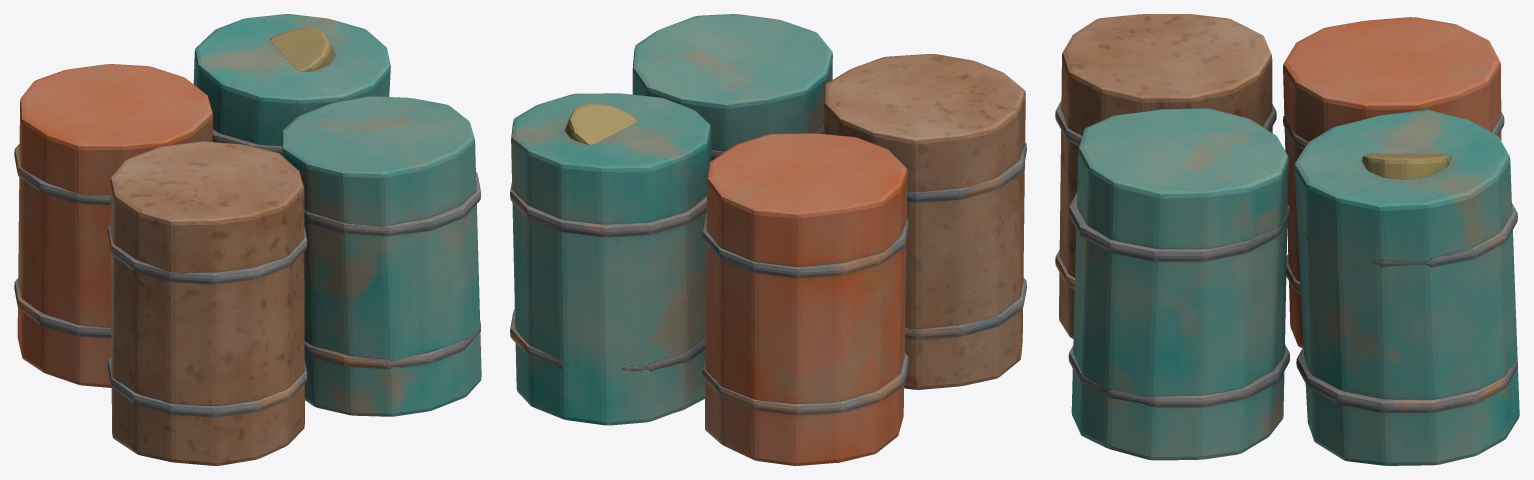
Rendered from barrel_group.glb.
3 views of the same model, side by side, from view 1: azimuth 30°, elevation 25°; view 2: azimuth 150°, elevation 25°; view 3: azimuth 270°, elevation 25° (orthographic). The views are drawn at different scales.
Visible parts, largest first — view 1: BarrelGroup_Mesh, WateringCan_Mesh; view 2: BarrelGroup_Mesh, WateringCan_Mesh; view 3: BarrelGroup_Mesh, WateringCan_Mesh.
Part boxes in pixels (x1,y1,x2,y2): BarrelGroup_Mesh: (14,14,481,465); WateringCan_Mesh: (270,28,334,71); BarrelGroup_Mesh: (510,14,1026,465); WateringCan_Mesh: (565,103,637,144); BarrelGroup_Mesh: (1055,14,1519,465); WateringCan_Mesh: (1362,153,1451,179).
Bounding box in the file's own units: 1.72 × 1.18 × 1.73.
Materials: 2 (2 with a texture image).
